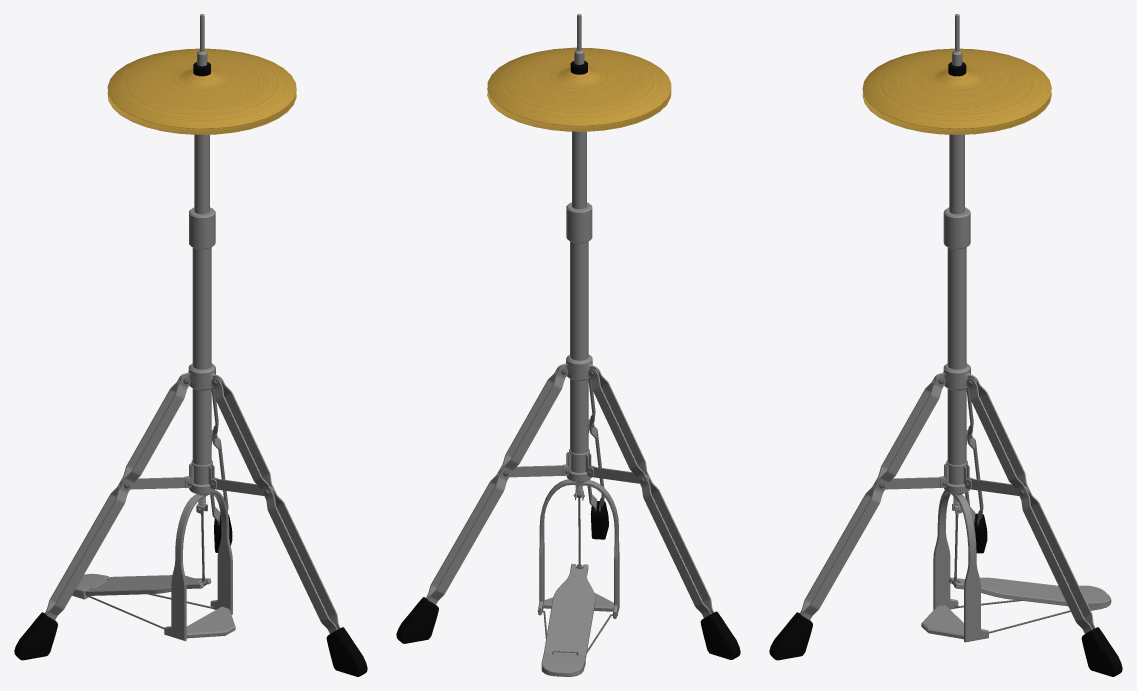
The model's file is DrumSet 1.glb.
3 renders of one model, left to right at view 1: azimuth 30°, elevation 25°; view 2: azimuth 150°, elevation 25°; view 3: azimuth 270°, elevation 25°, orthographic. The views are drawn at different scales.
Visible parts, largest first — view 1: Legs.005, Cymbal_HiHat, HiHat_Pedal, Cymbal_Stand.003, HiHat_Stand, Cymbal_HiHat.001; view 2: Legs.005, Cymbal_HiHat, HiHat_Pedal, Cymbal_Stand.003, HiHat_Stand, Cymbal_HiHat.001; view 3: Legs.005, Cymbal_HiHat, HiHat_Pedal, Cymbal_Stand.003, HiHat_Stand, Cymbal_HiHat.001.
Part boxes in pixels (box(x1,y1,x2,y2)): Legs.005: box(14, 376, 367, 676); Cymbal_HiHat: box(107, 48, 296, 128); HiHat_Pedal: box(72, 490, 235, 641); Cymbal_Stand.003: box(179, 207, 221, 494); HiHat_Stand: box(193, 14, 210, 503); Cymbal_HiHat.001: box(107, 92, 296, 134); Legs.005: box(396, 367, 740, 659); Cymbal_HiHat: box(487, 47, 671, 125); HiHat_Pedal: box(537, 479, 619, 676); Cymbal_Stand.003: box(557, 202, 598, 482); HiHat_Stand: box(570, 14, 587, 491); Cymbal_HiHat.001: box(487, 89, 671, 131); Legs.005: box(769, 376, 1122, 676); Cymbal_HiHat: box(862, 48, 1051, 128); HiHat_Pedal: box(921, 490, 1111, 642); Cymbal_Stand.003: box(934, 207, 976, 494); HiHat_Stand: box(948, 14, 966, 503); Cymbal_HiHat.001: box(862, 92, 1051, 134).
Size of the model in its own units: 0.6487 by 1.34 by 0.7007.
Materials: 1 (1 with a texture image).
